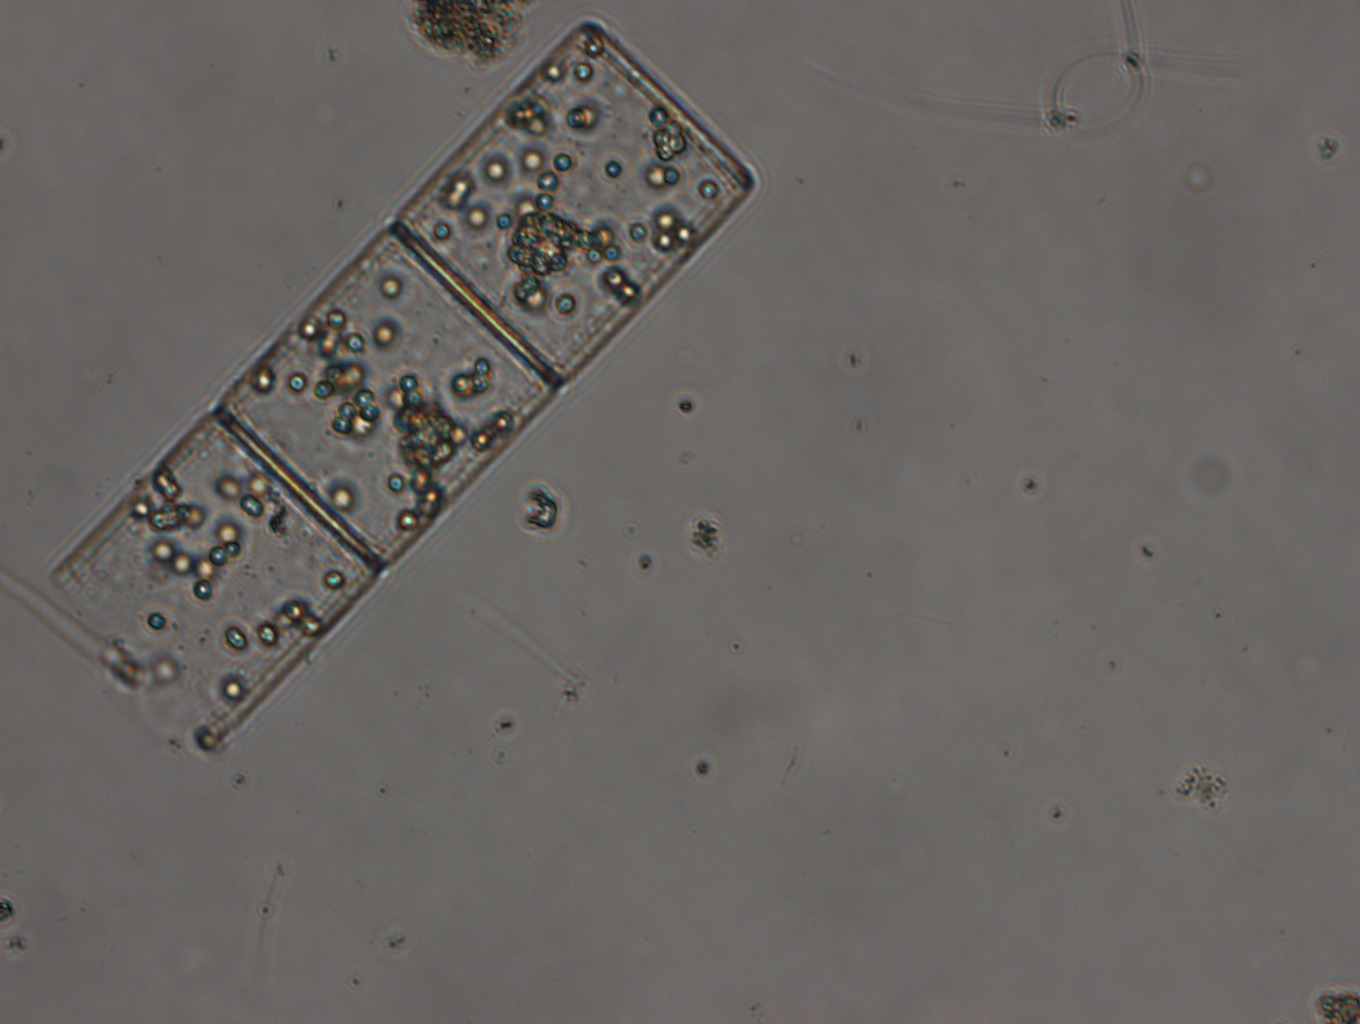guinardia flaccida: (46, 19, 756, 746)
